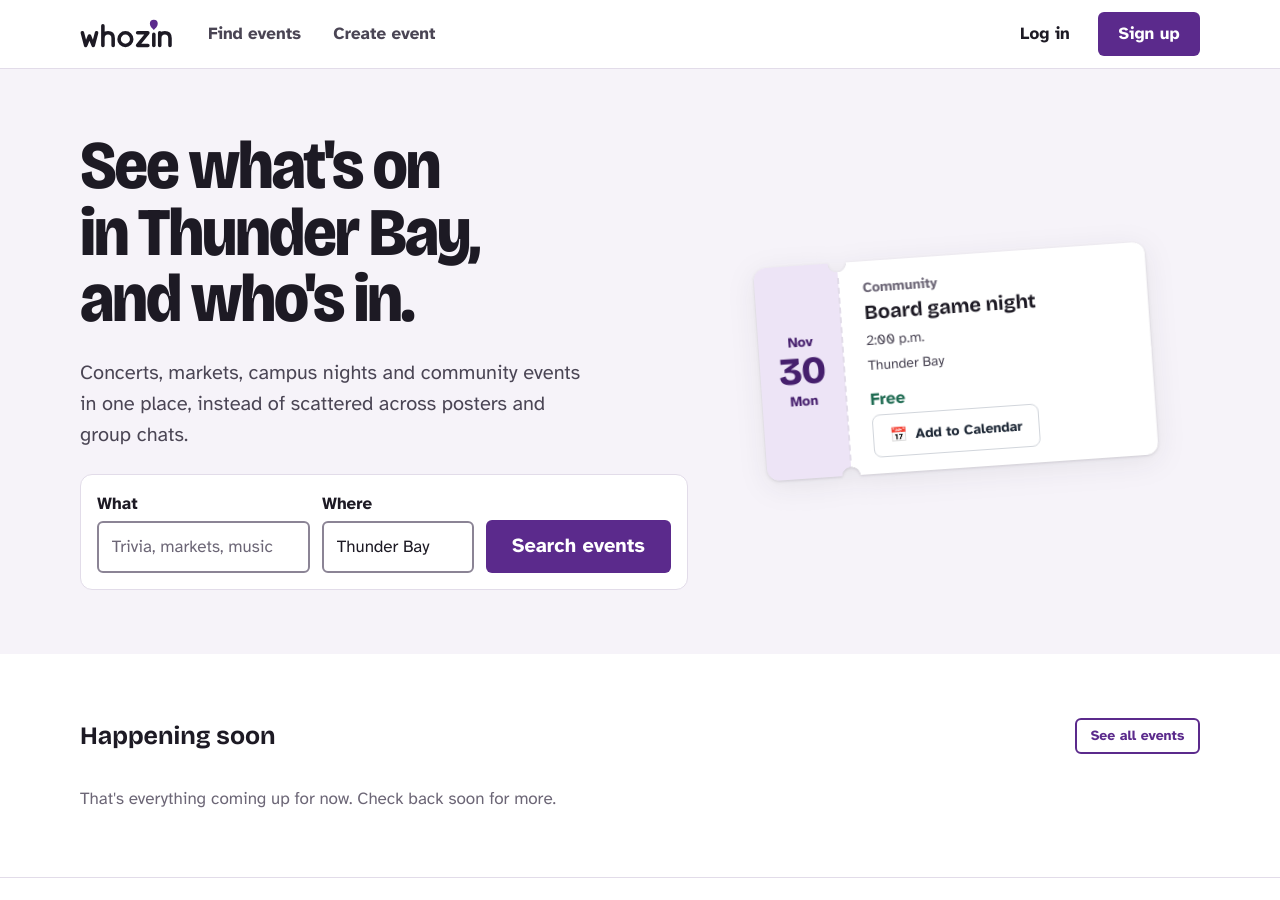
Test case: account in the navbar › shows a login saved without a page reload once the user moves on
Click the link "Find events" at point(255, 33), box [208,23,301,44]
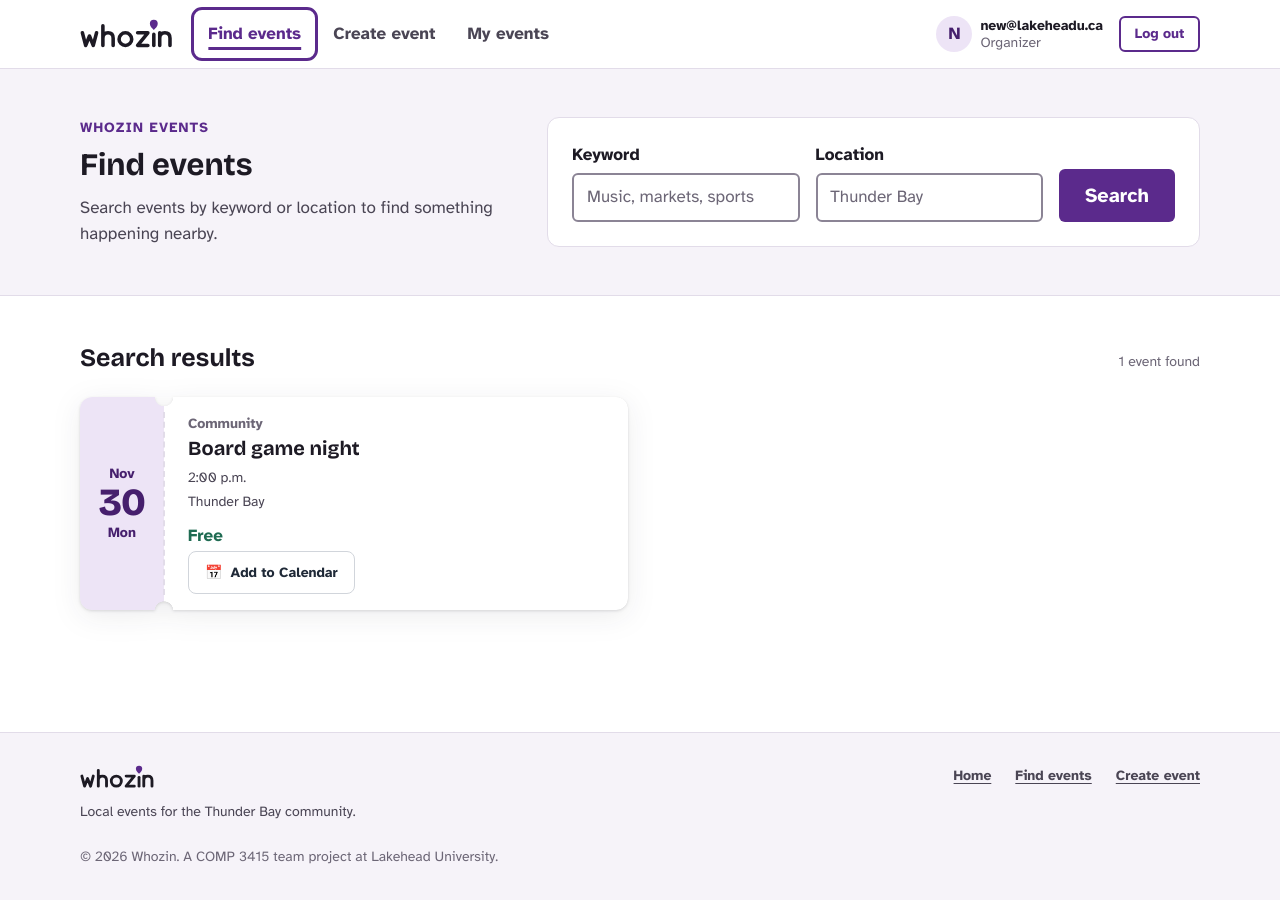
Result: the text "new@lakeheadu.ca" is shown at [980,16,1103,34]
